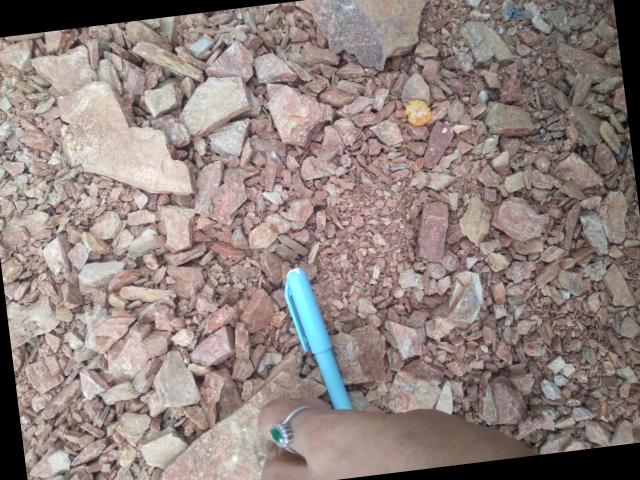PEN: (61, 265, 244, 390)
